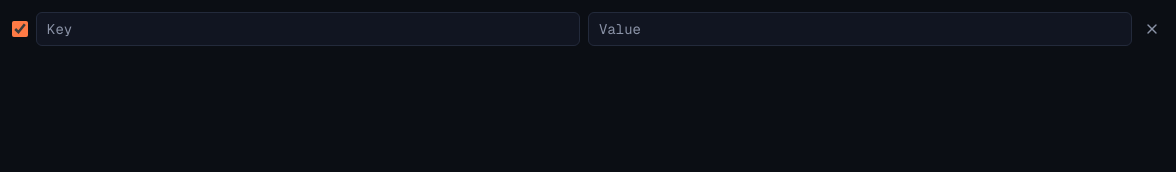
it: KeyValueEditor › typing into the trailing blank row appends a new blank row
In the field with placeholder "Key": (308,29) x1=36 y1=12 x2=580 y2=46, type "Content-Type"
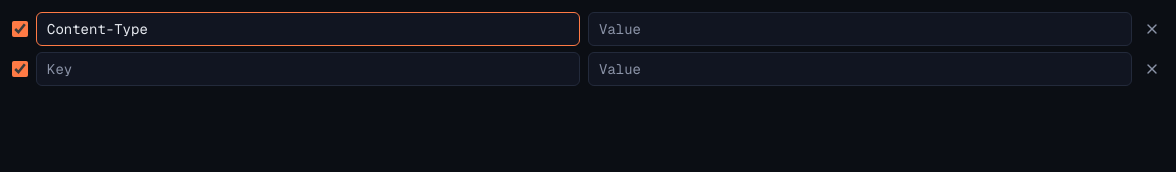
Expected: the number of fields with placeholder "Key" is 2, x1=36 y1=12 x2=580 y2=46; x1=36 y1=52 x2=580 y2=86
